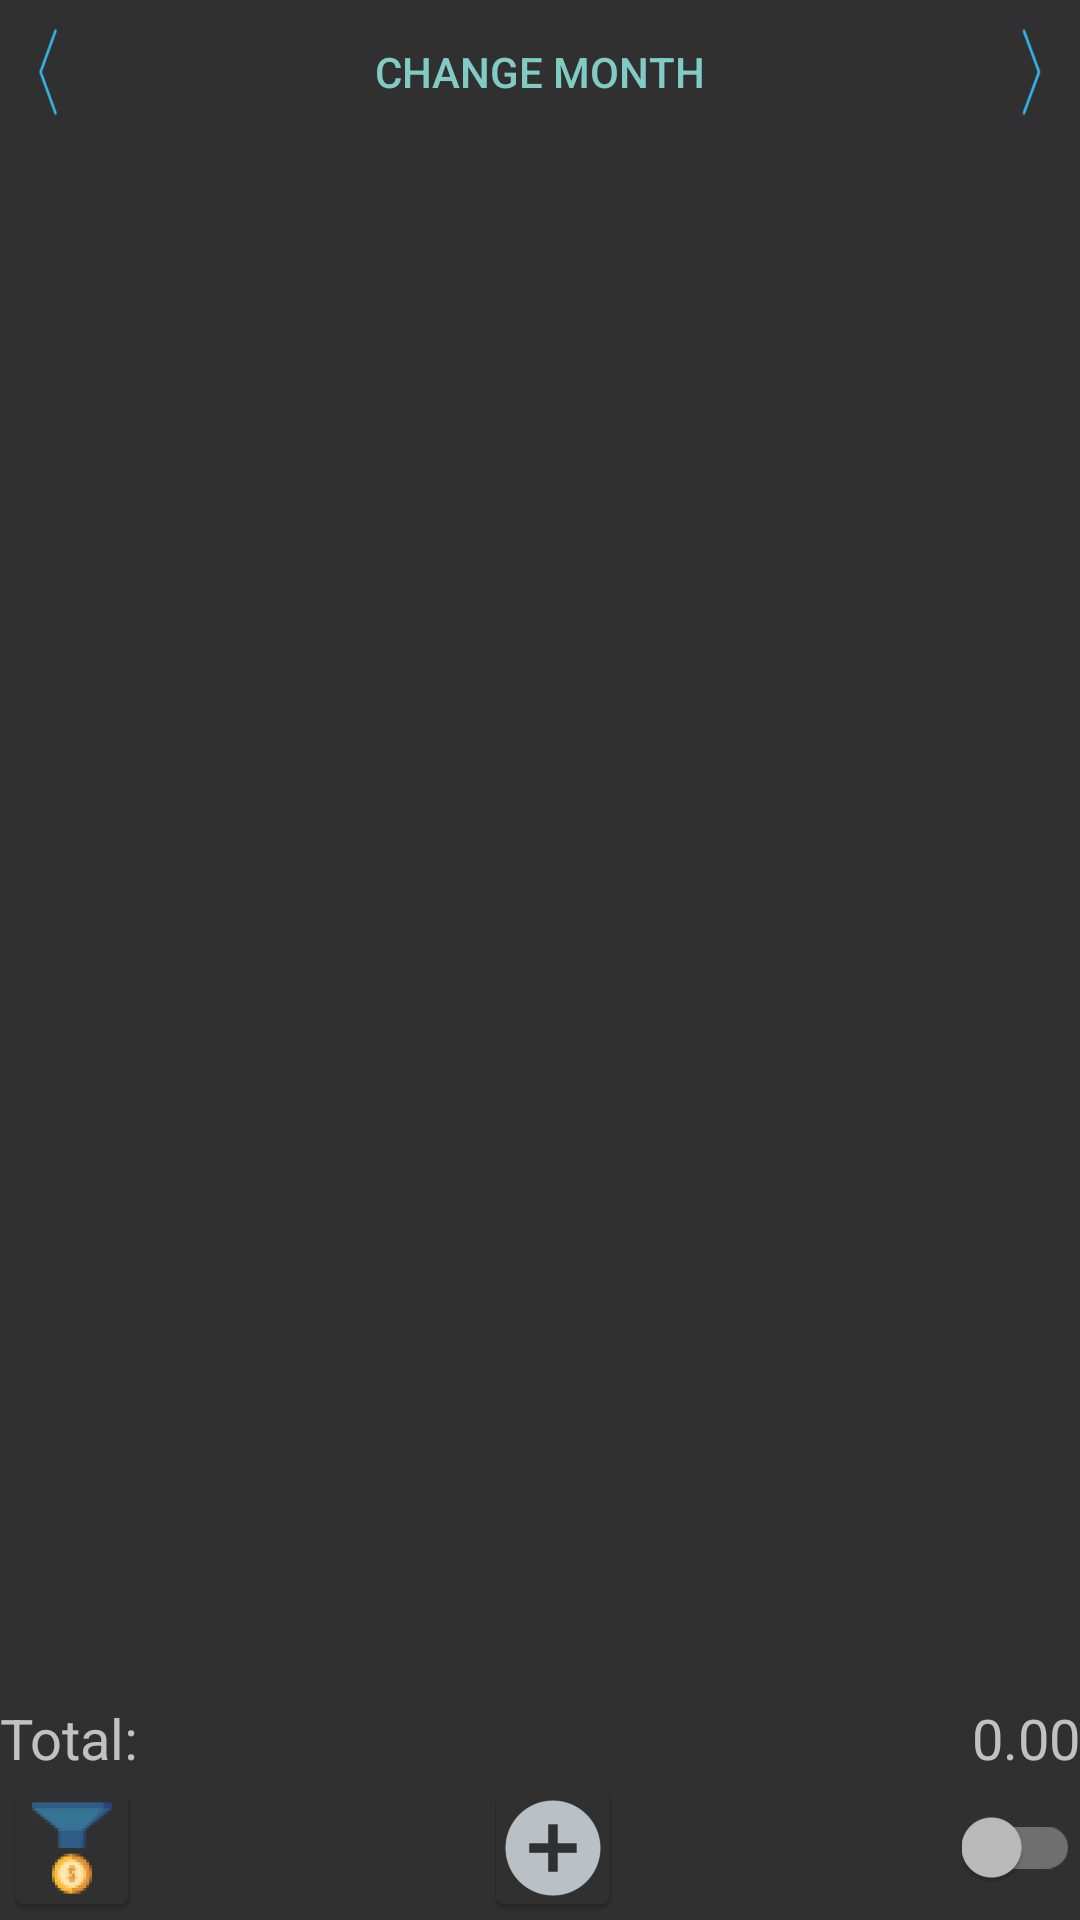

Point at icon controls on the screen. Image size 1080w x 1920h, points as (x,y).
arrow left: (48,72)
arrow right: (1031,72)
